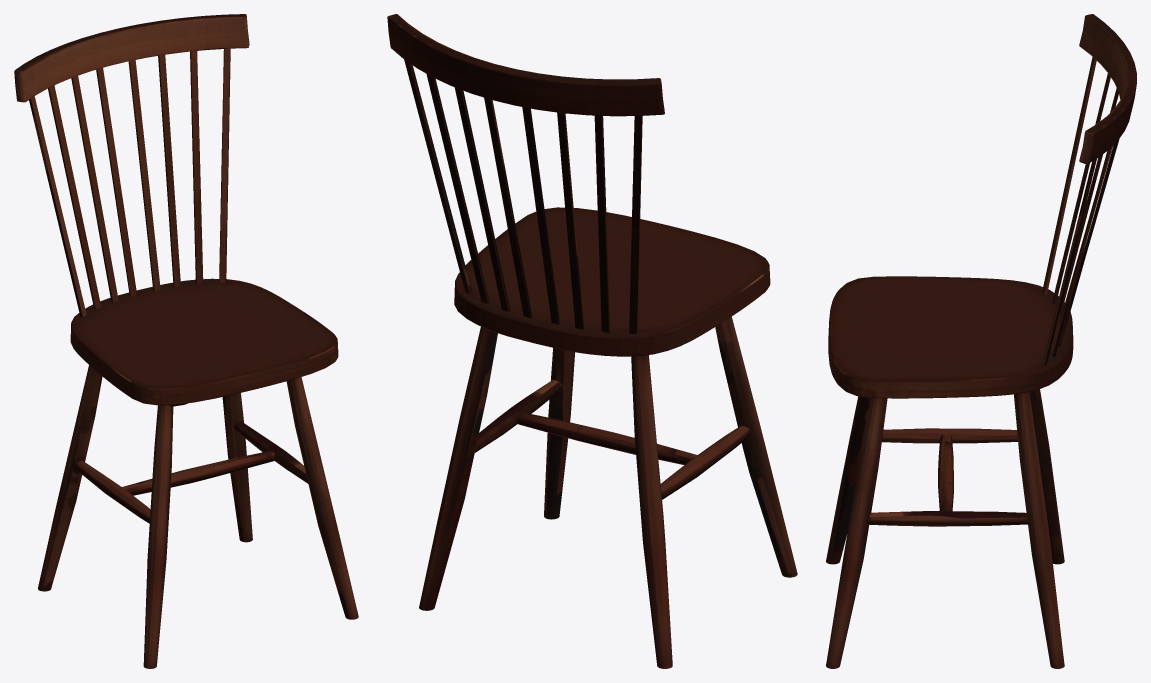
The model's file is edited_mesh.glb.
The picture shows the model from 3 angles, left to right: view 1: azimuth 30°, elevation 25°; view 2: azimuth 150°, elevation 25°; view 3: azimuth 270°, elevation 25°; orthographic projection. The views are drawn at different scales.
Visible parts, largest first — view 1: normalized_model.obj; view 2: normalized_model.obj; view 3: normalized_model.obj.
Boxes of the visible parts, bbox=[...] form: normalized_model.obj: bbox=[14, 14, 358, 668]; normalized_model.obj: bbox=[387, 14, 797, 668]; normalized_model.obj: bbox=[826, 14, 1136, 668].
Size of the model in its own units: 0.7566 by 1.59 by 0.8261.
1 material, 1 textured.
